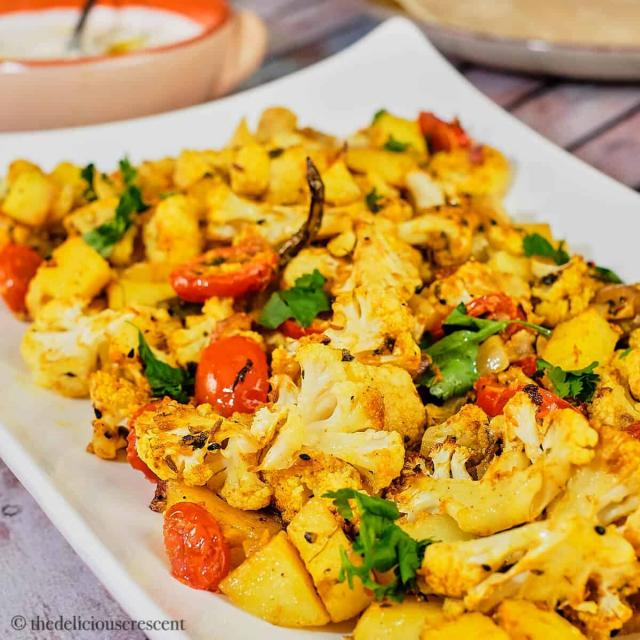Aloo Gobi: (160, 147, 581, 602)
